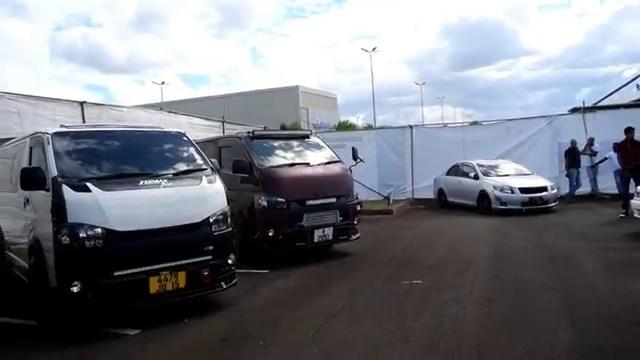van: (2, 122, 237, 291), (200, 122, 365, 260)
